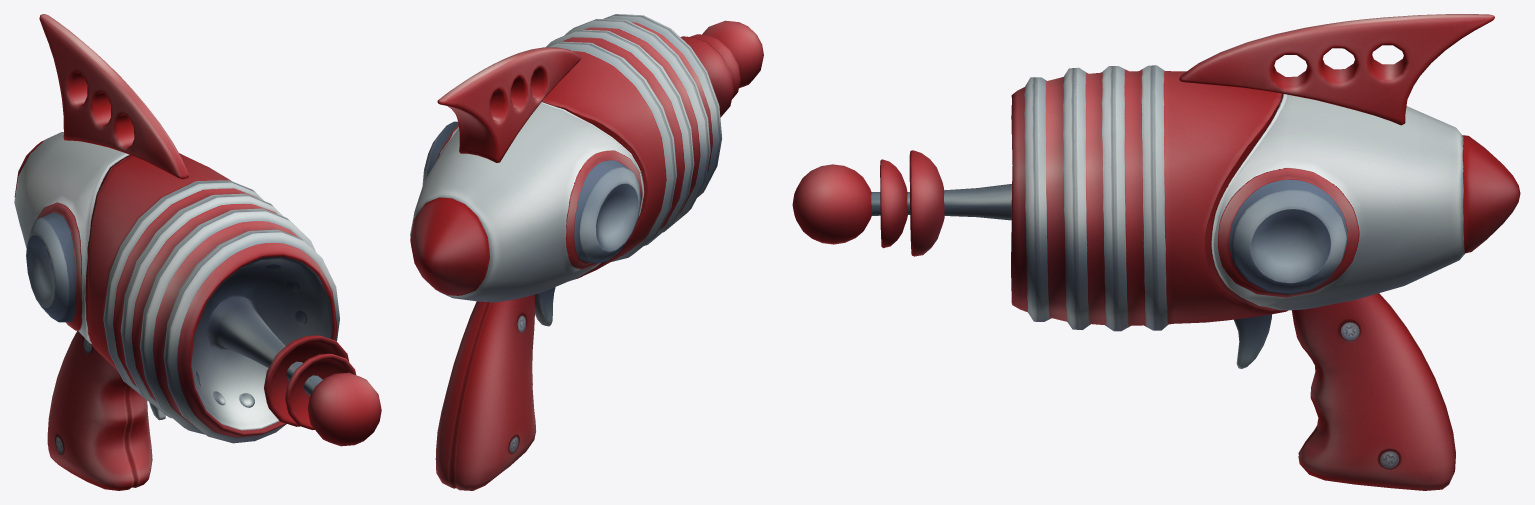
Rendered from Laser Gun.FBX.
3 views of the same model, side by side, from view 1: azimuth 30°, elevation 25°; view 2: azimuth 150°, elevation 25°; view 3: azimuth 270°, elevation 25° (orthographic). The views are drawn at different scales.
Visible parts, largest first — view 1: Laser Gun; view 2: Laser Gun; view 3: Laser Gun.
Part boxes in pixels (box(x1,y1,x2,y2)): Laser Gun: box(14, 14, 381, 490); Laser Gun: box(410, 14, 763, 490); Laser Gun: box(792, 14, 1520, 490).
Size of the model in its own units: 21.66 by 62.97 by 44.6.
Materials: 1 (1 with a texture image).
